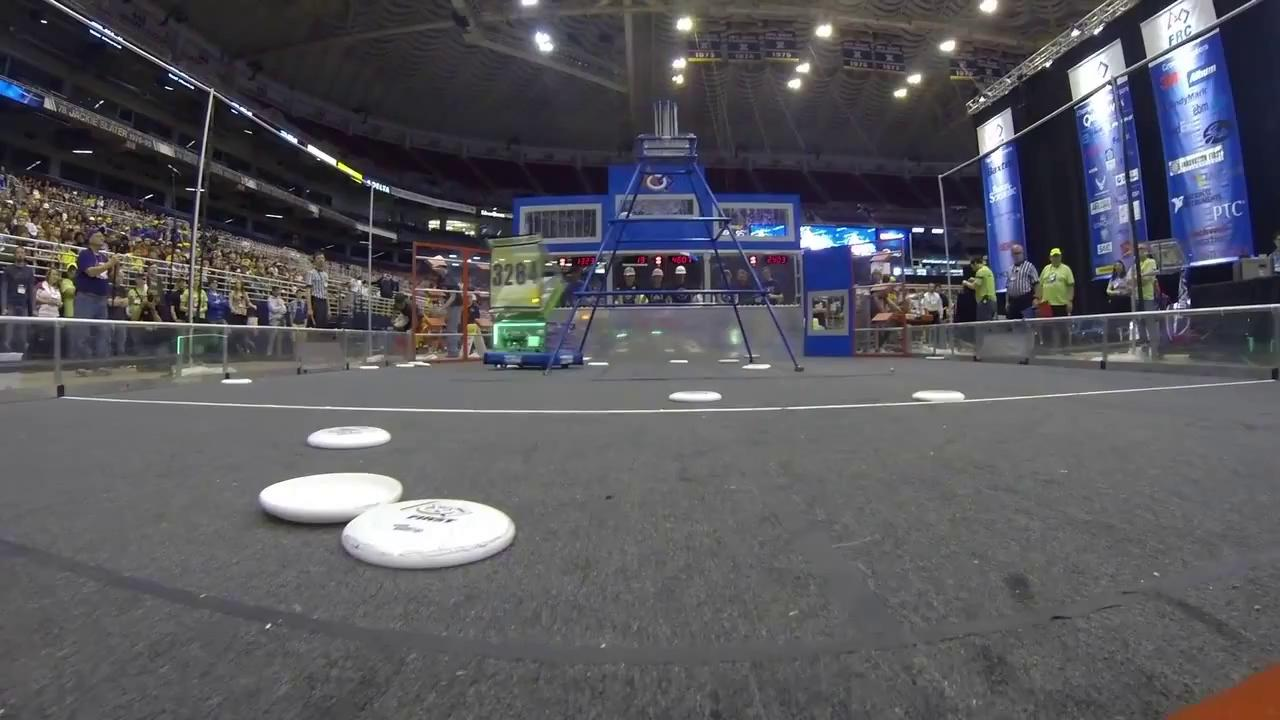robot: (482, 234, 586, 372)
